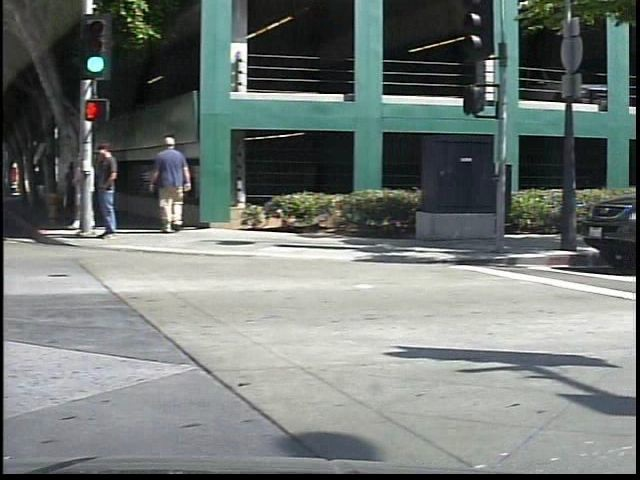person: (154, 135, 207, 236), (96, 137, 135, 245), (78, 144, 103, 232)
